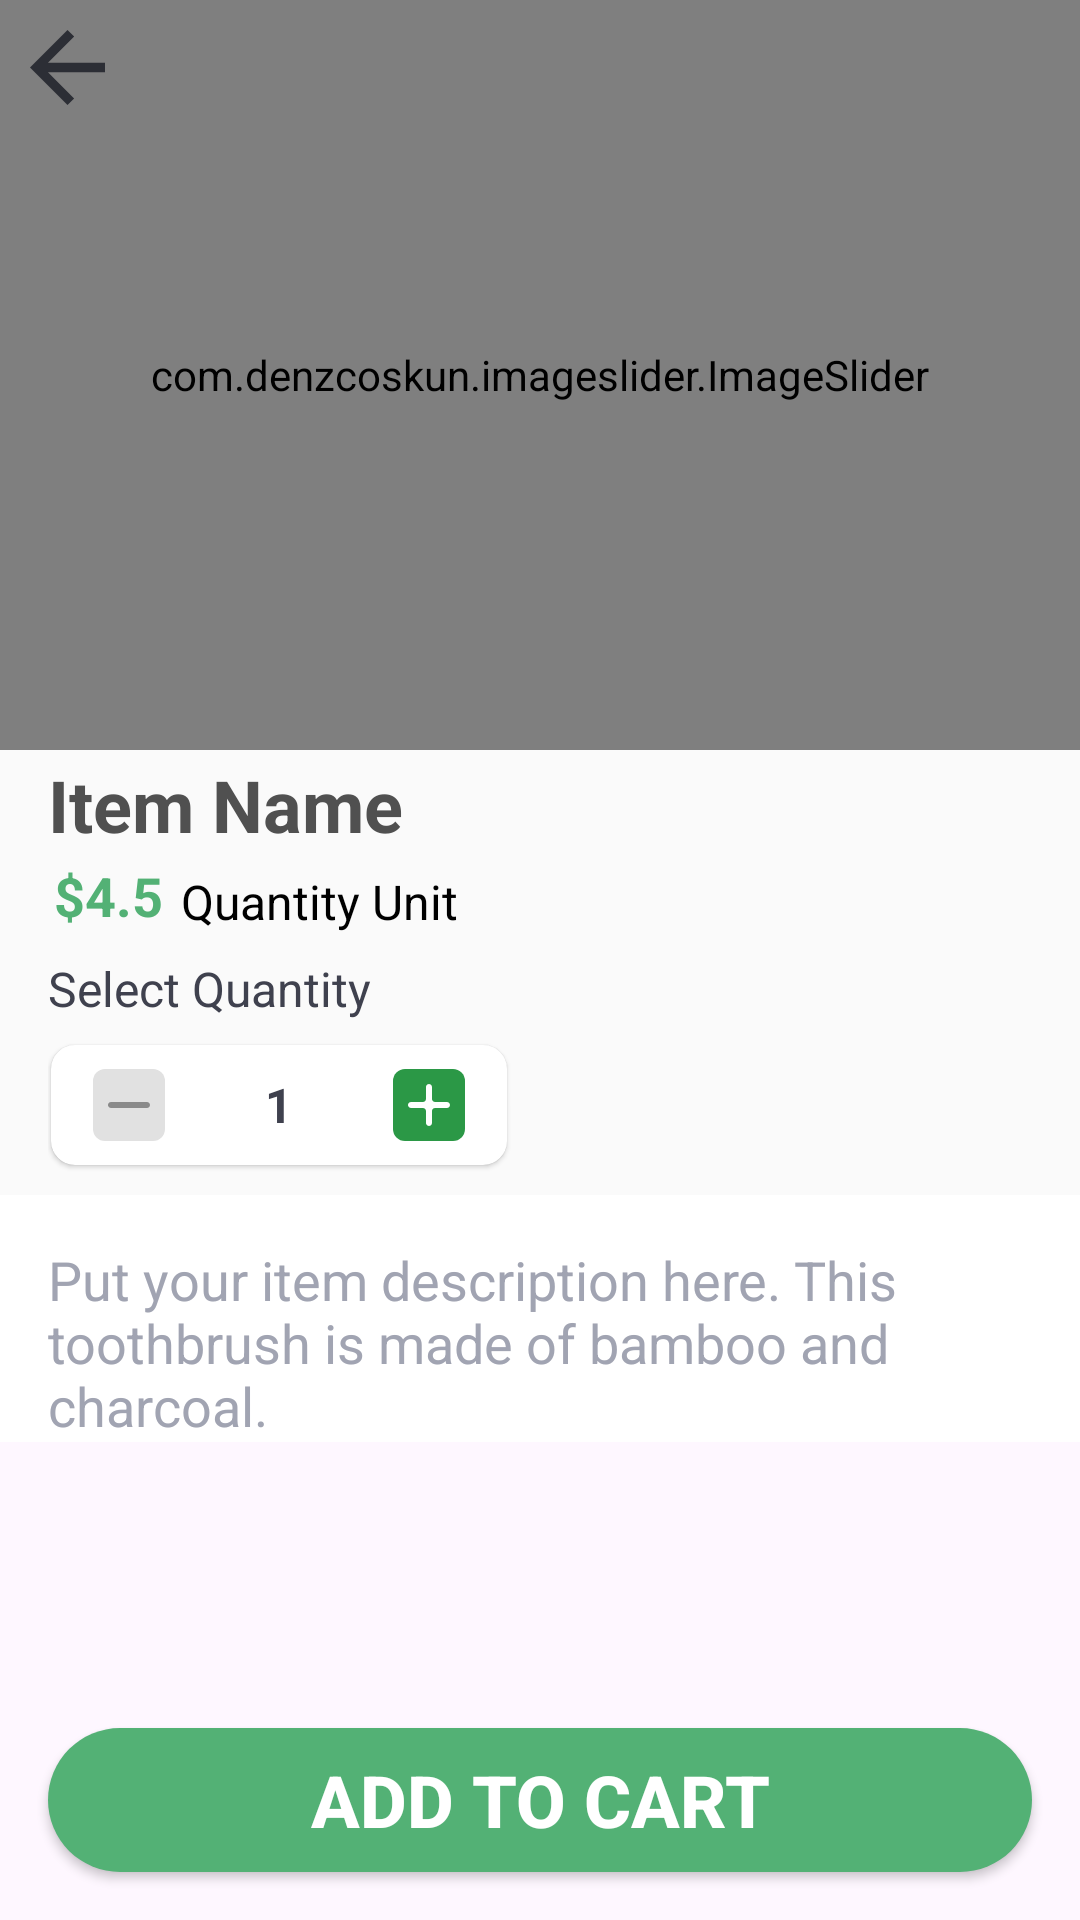

Locate icon controls on the screen. Image size 1080px×1920px, boxes as [x1,y1,x2,y2].
back: [30,30,105,105]
